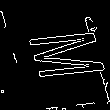M_E: (6, 28, 104, 82)
